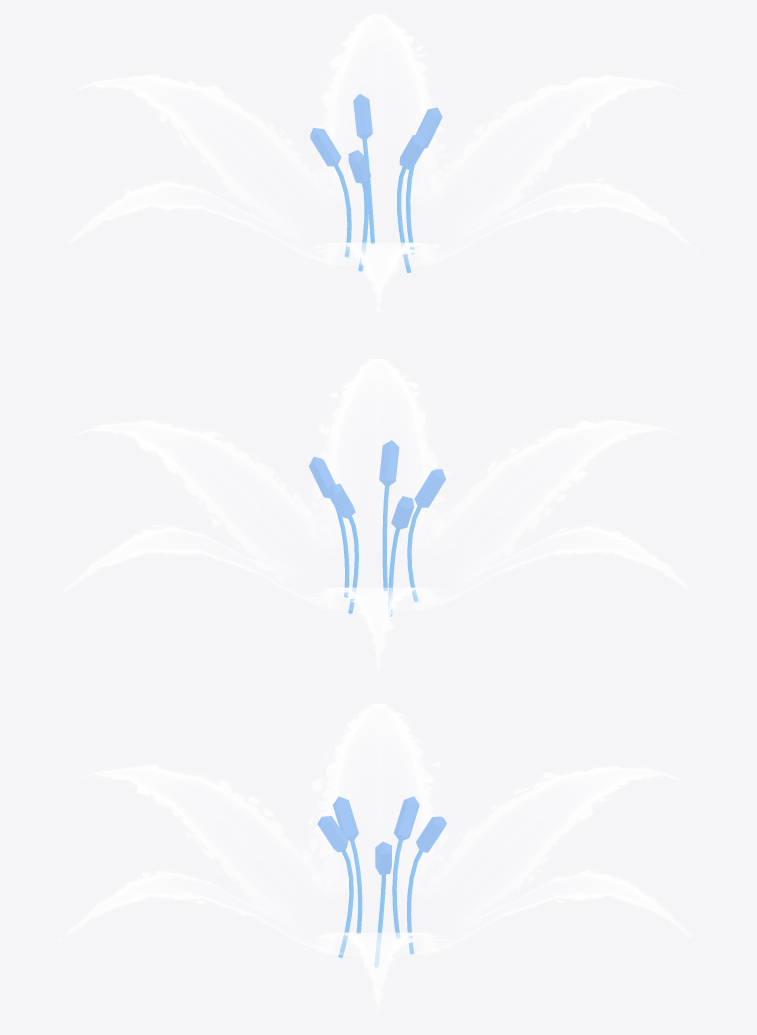
3 views of the same model, one above another, from view 1: azimuth 30°, elevation 25°; view 2: azimuth 150°, elevation 25°; view 3: azimuth 270°, elevation 25° (orthographic).
Parts seen in each view (by area): view 1: Flower_1; view 2: Flower_1; view 3: Flower_1.
Boxes of the visible parts, <box> form: Flower_1: <box>64,14,698,313</box>; Flower_1: <box>63,359,688,670</box>; Flower_1: <box>57,704,693,1012</box>.
Bounding box in the file's own units: 3.35 × 0.7116 × 3.3.
Materials: 3 (1 with a texture image).
